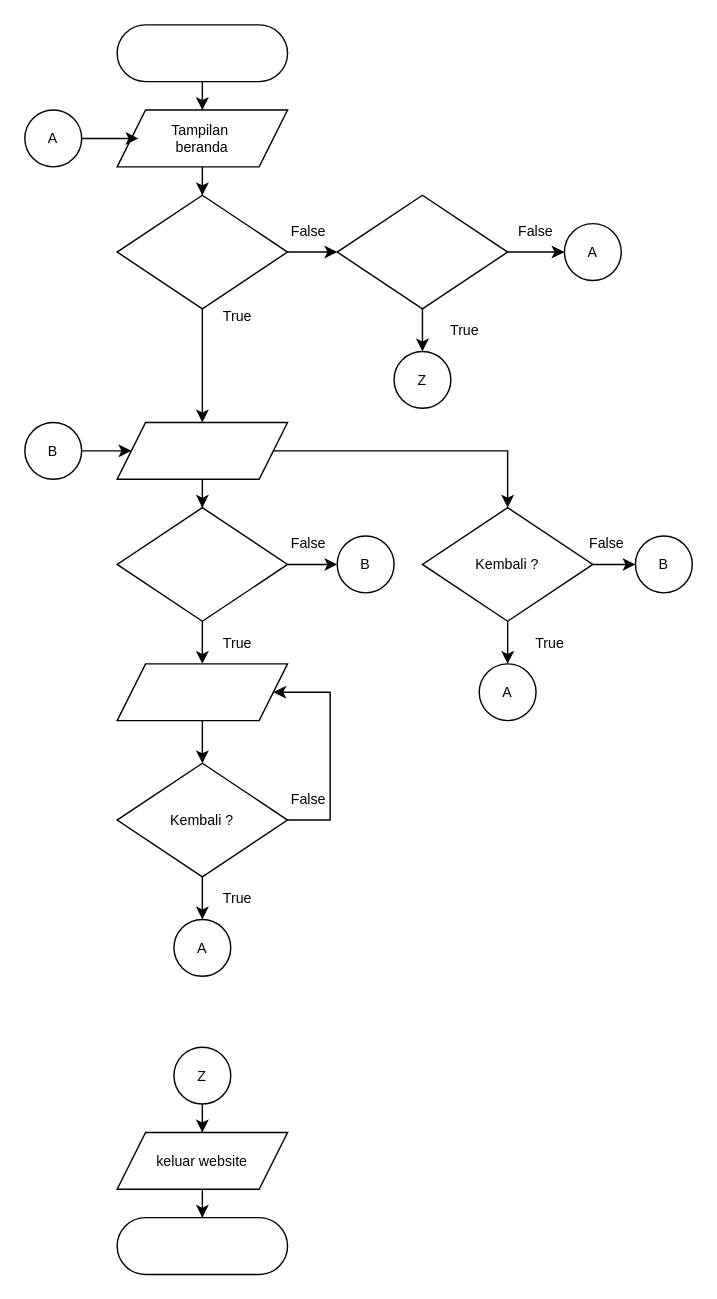
Some shapes in this 717 by 1299 pixel diagram are drawn without their labels. The centre of each missing label's shape, as x and y in pixels:
"End" goes at point 202,1245.
"Informasi makanan" goes at point 202,691.
"Keluar website?" goes at point 422,251.
"Lihat detail makanan ?" goes at point 202,563.
"pilih kota || kabupaten" goes at point 202,251.
"Start" goes at point 202,52.
"Tampilan daftar makanan" goes at point 202,450.
